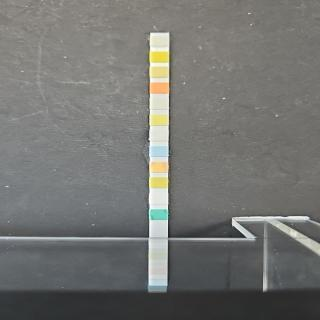mark: (150, 82, 170, 95), (149, 128, 168, 141), (149, 144, 169, 156), (149, 176, 169, 188), (150, 160, 168, 173), (150, 36, 169, 48), (150, 66, 169, 78), (150, 98, 169, 110), (149, 192, 168, 204), (150, 51, 170, 62), (150, 114, 168, 125), (150, 210, 168, 220)
